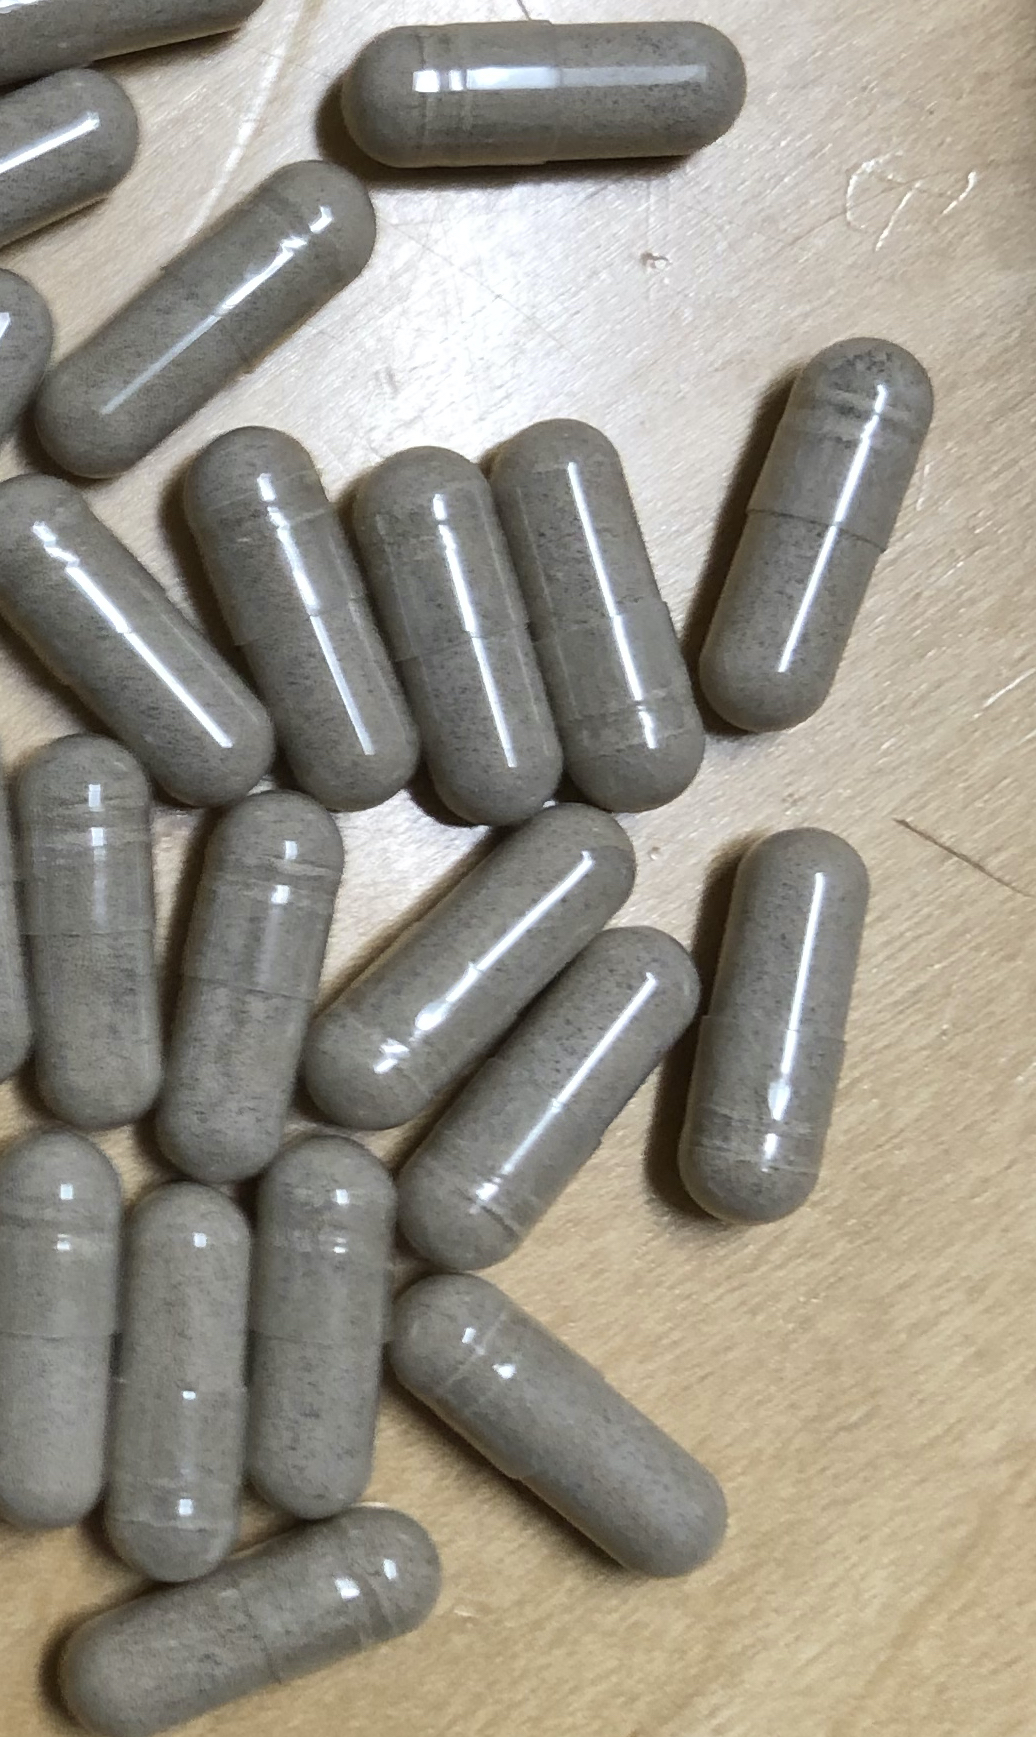capsule: (26, 160, 382, 478), (292, 805, 643, 1123), (392, 920, 701, 1273), (387, 1269, 726, 1578), (158, 431, 418, 812), (696, 330, 937, 731), (7, 465, 282, 812), (471, 420, 710, 815), (58, 1506, 453, 1737), (337, 448, 557, 826), (675, 822, 865, 1227), (158, 783, 339, 1191), (11, 729, 163, 1130), (334, 18, 747, 165), (105, 1183, 255, 1578), (245, 1130, 392, 1526), (1, 1126, 118, 1531), (2, 62, 142, 255)
